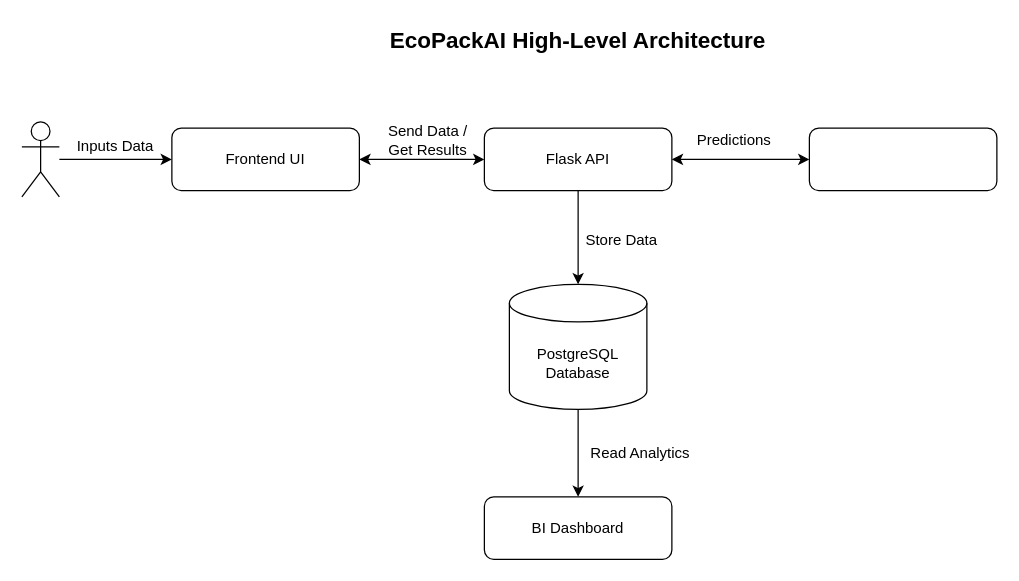
Some shapes in this 1019 by 581 pixel diagram are drawn without their labels. Each missing label, with the centre of its shape:
"AI Model Engine" belongs at (x=902, y=159).
"User" belongs at (x=40, y=159).
